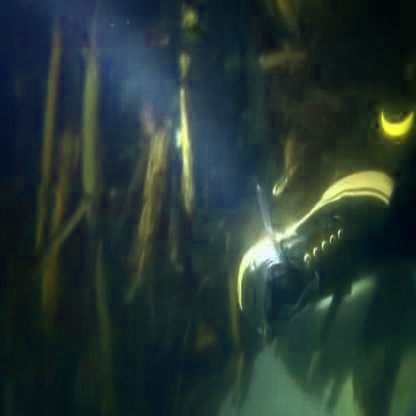misc: (234, 174, 416, 362)
